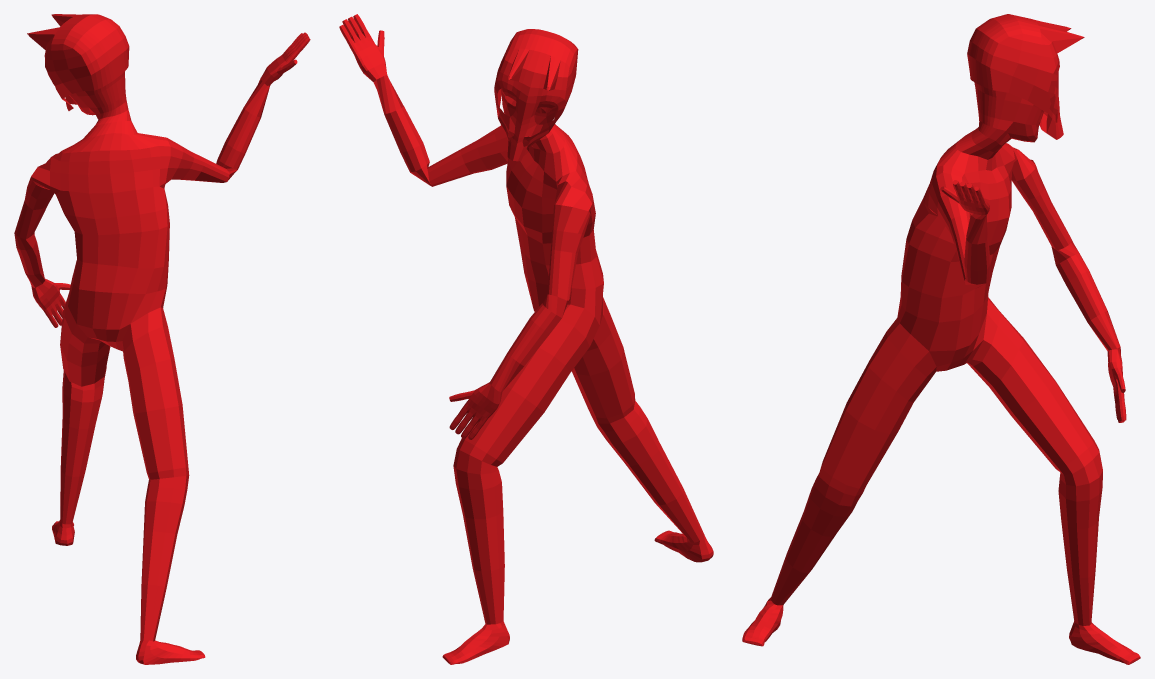
File: activaAlarma_000154.obj
The picture shows the model from 3 angles, left to right: view 1: azimuth 30°, elevation 25°; view 2: azimuth 150°, elevation 25°; view 3: azimuth 270°, elevation 25°; orthographic projection. The views are drawn at different scales.
Parts seen in each view (by area): view 1: Plane.002_Plane.001; view 2: Plane.002_Plane.001; view 3: Plane.002_Plane.001.
Boxes of the visible parts, x1,y1,x2,y2 form: Plane.002_Plane.001: (14,14,310,664); Plane.002_Plane.001: (339,14,713,664); Plane.002_Plane.001: (742,14,1140,664).
Size of the model in its own units: 3.2 by 6.61 by 3.79.
